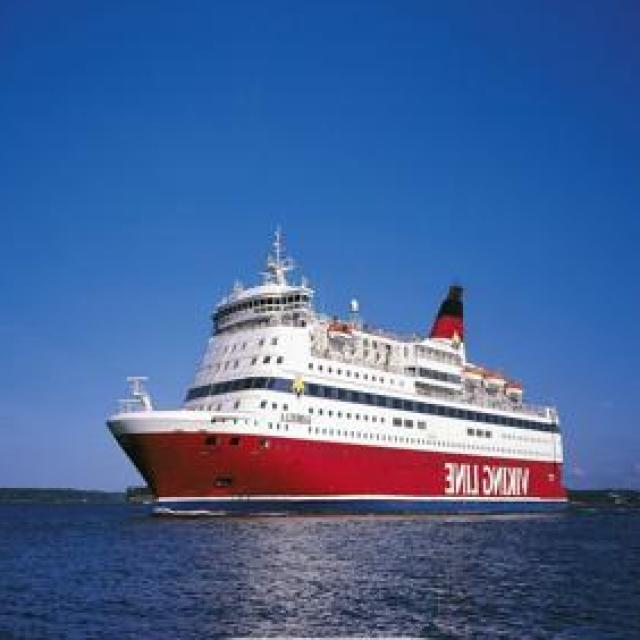passenger ship: (111, 226, 571, 520)
